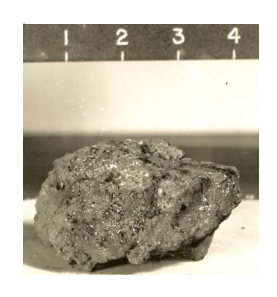Breccia: (35, 107, 246, 271)
